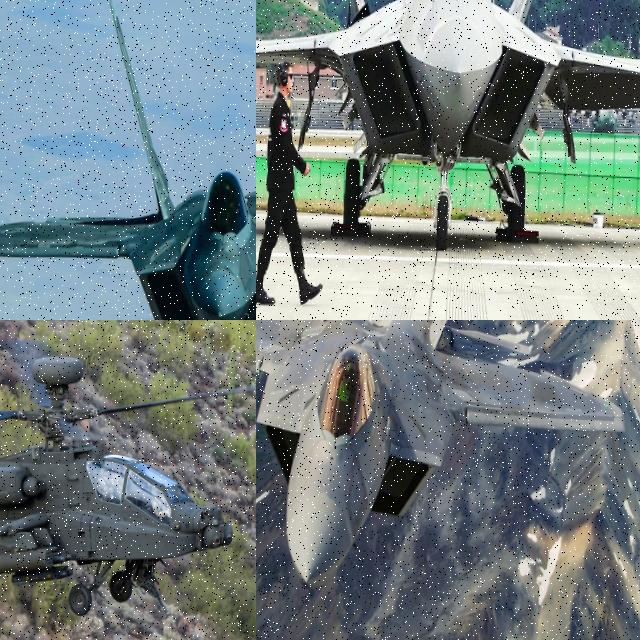Apache: (0, 331, 256, 621)
F22: (256, 320, 629, 600), (256, 0, 640, 244), (0, 0, 256, 320)
